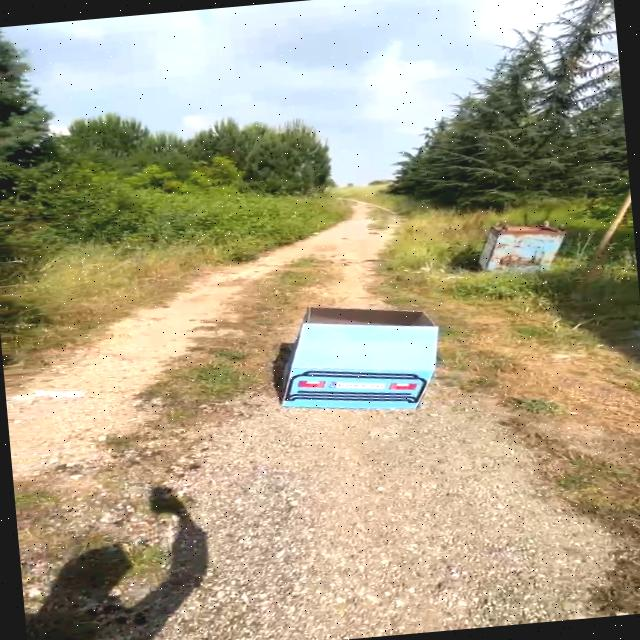blue_car: (240, 286, 461, 437)
